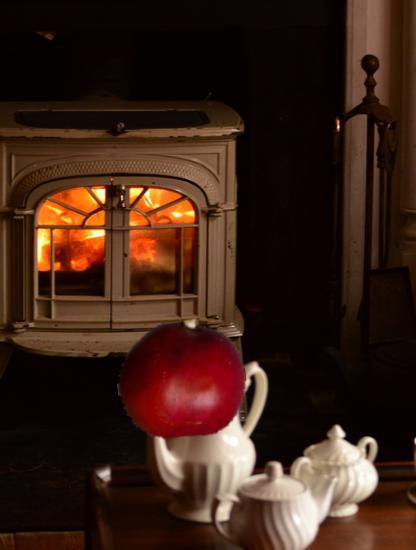Nectarine: (117, 315, 246, 444)
